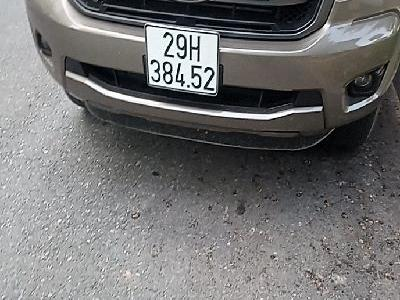car: (144, 22, 220, 98)
